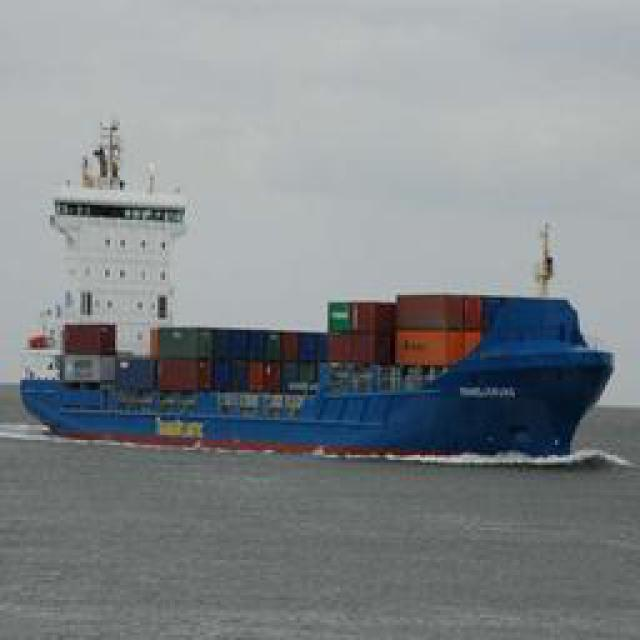Ship: (20, 294, 623, 464)
